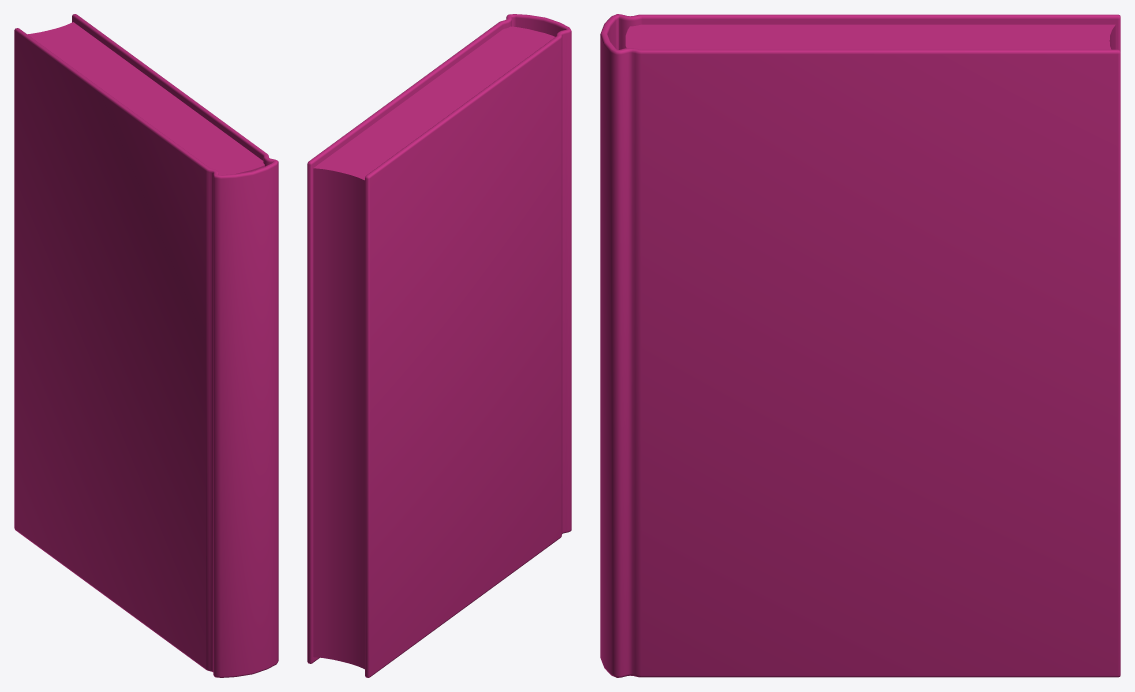
The model's file is book.gltf.
The picture shows the model from 3 angles, left to right: view 1: azimuth 30°, elevation 25°; view 2: azimuth 150°, elevation 25°; view 3: azimuth 270°, elevation 25°; orthographic projection. The views are drawn at different scales.
Visible parts, largest first — view 1: Sample_Book_01; view 2: Sample_Book_01; view 3: Sample_Book_01.
Boxes of the visible parts, left/top/right/bottom form: Sample_Book_01: left=14, top=14, right=278, bottom=677; Sample_Book_01: left=307, top=14, right=571, bottom=677; Sample_Book_01: left=600, top=14, right=1120, bottom=677.
Bounding box in the file's own units: 2.05 × 15.38 × 11.59.
